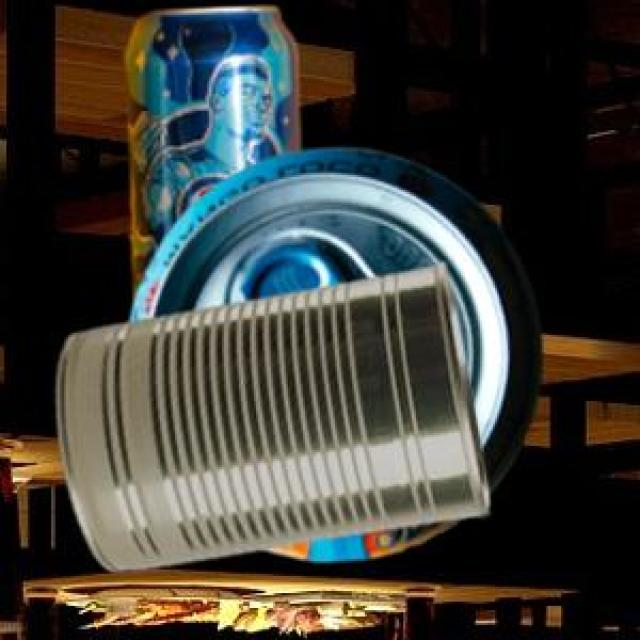logam: (127, 153, 539, 564), (54, 266, 485, 575), (123, 10, 295, 302)
